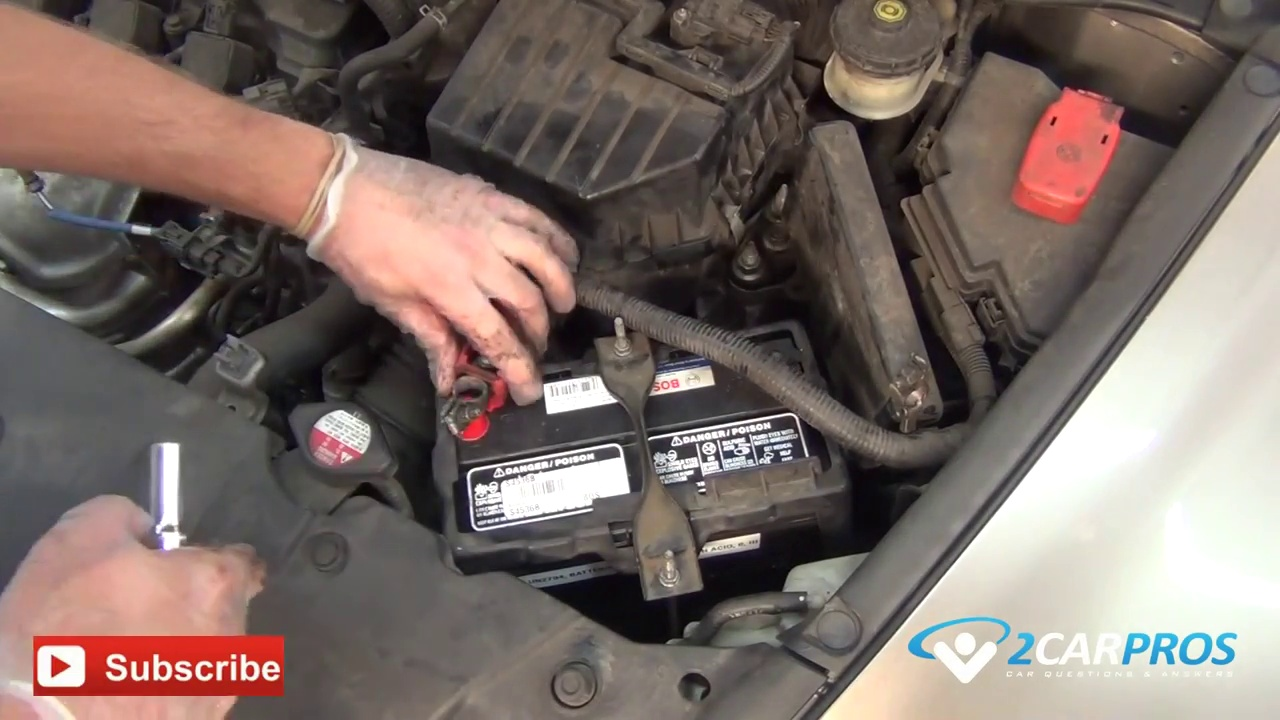battery: (417, 316, 836, 542)
pos_touched: (390, 245, 553, 450)
